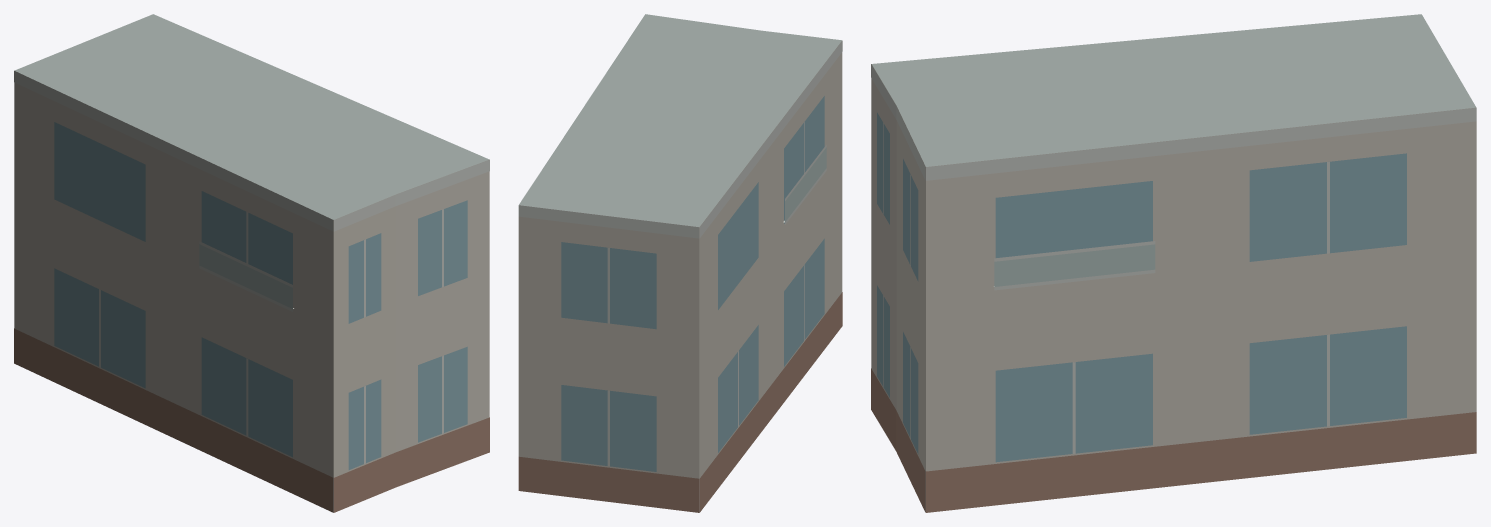
File: survey-upis-32483144.glb
3 views of the same model, side by side, from view 1: azimuth 30°, elevation 25°; view 2: azimuth 150°, elevation 25°; view 3: azimuth 270°, elevation 25° (orthographic). The views are drawn at different scales.
Parts seen in each view (by area): view 1: survey-upis-32483144.tmp; view 2: survey-upis-32483144.tmp; view 3: survey-upis-32483144.tmp.
Boxes of the visible parts, box(x1,y1,x2,y2) form: survey-upis-32483144.tmp: box(14, 14, 489, 512); survey-upis-32483144.tmp: box(518, 14, 842, 512); survey-upis-32483144.tmp: box(871, 14, 1476, 512).
Size of the model in its own units: 5.8 by 6.1 by 9.69.
